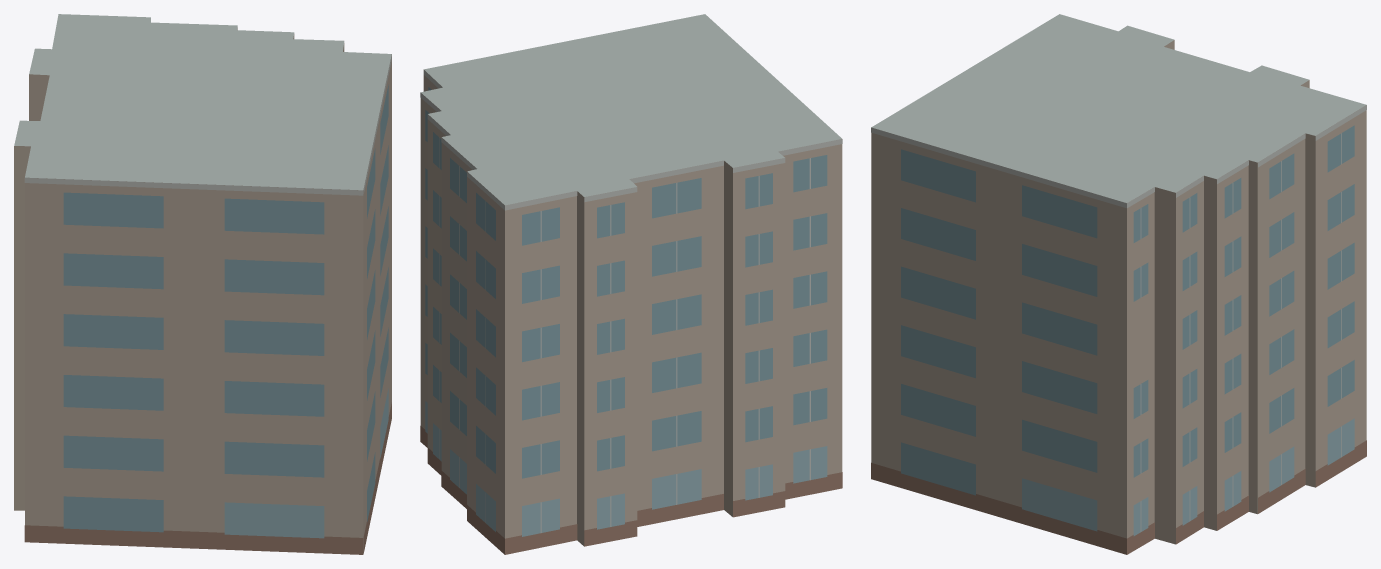
File: survey-upis-32779158.glb
3 views of the same model, side by side, from view 1: azimuth 30°, elevation 25°; view 2: azimuth 150°, elevation 25°; view 3: azimuth 270°, elevation 25° (orthographic). The views are drawn at different scales.
Parts seen in each view (by area): view 1: survey-upis-32779158.tmp; view 2: survey-upis-32779158.tmp; view 3: survey-upis-32779158.tmp.
Part boxes in pixels (left/top/right/bottom): survey-upis-32779158.tmp: left=14, top=14, right=391, bottom=554; survey-upis-32779158.tmp: left=420, top=14, right=842, bottom=554; survey-upis-32779158.tmp: left=871, top=14, right=1366, bottom=554.
Size of the model in its own units: 19.16 by 16.6 by 21.21.
